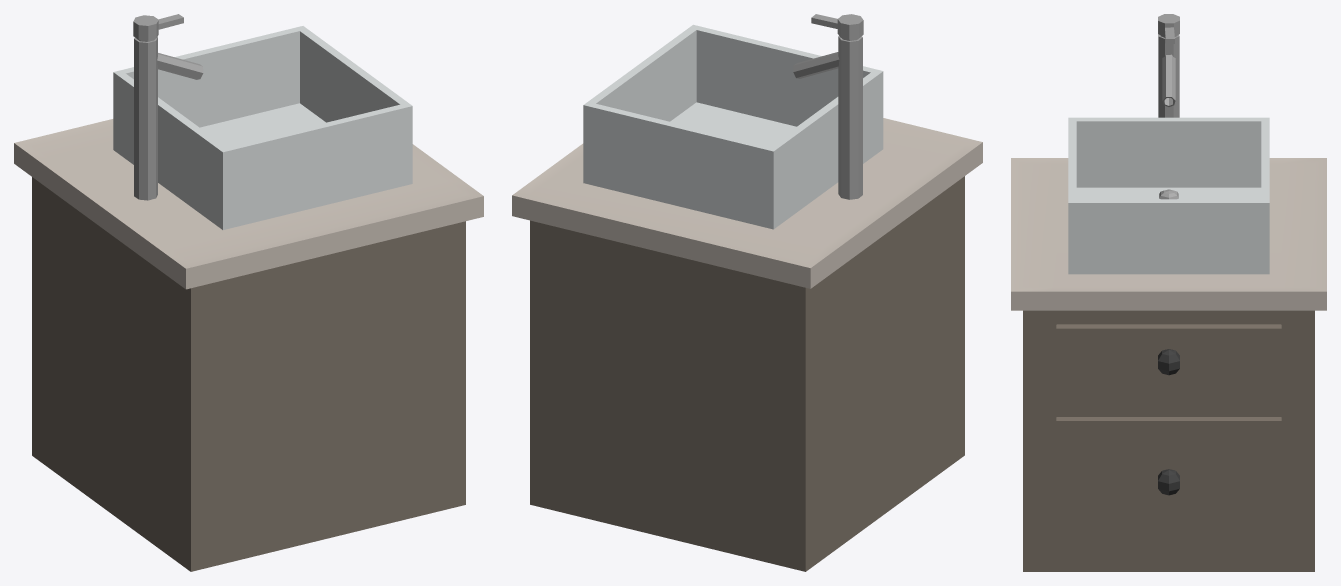
Rendered from Sink.fbx.
The picture shows the model from 3 angles, left to right: view 1: azimuth 30°, elevation 25°; view 2: azimuth 150°, elevation 25°; view 3: azimuth 270°, elevation 25°; orthographic projection. The views are drawn at different scales.
Visible parts, largest first — view 1: pSphere3; view 2: pSphere3; view 3: pSphere3.
Part boxes in pixels (<box>): pSphere3: <box>14,14,483,571</box>; pSphere3: <box>512,14,982,571</box>; pSphere3: <box>1011,14,1326,571</box>.
Size of the model in its own units: 14.77 by 21.9 by 14.08.
